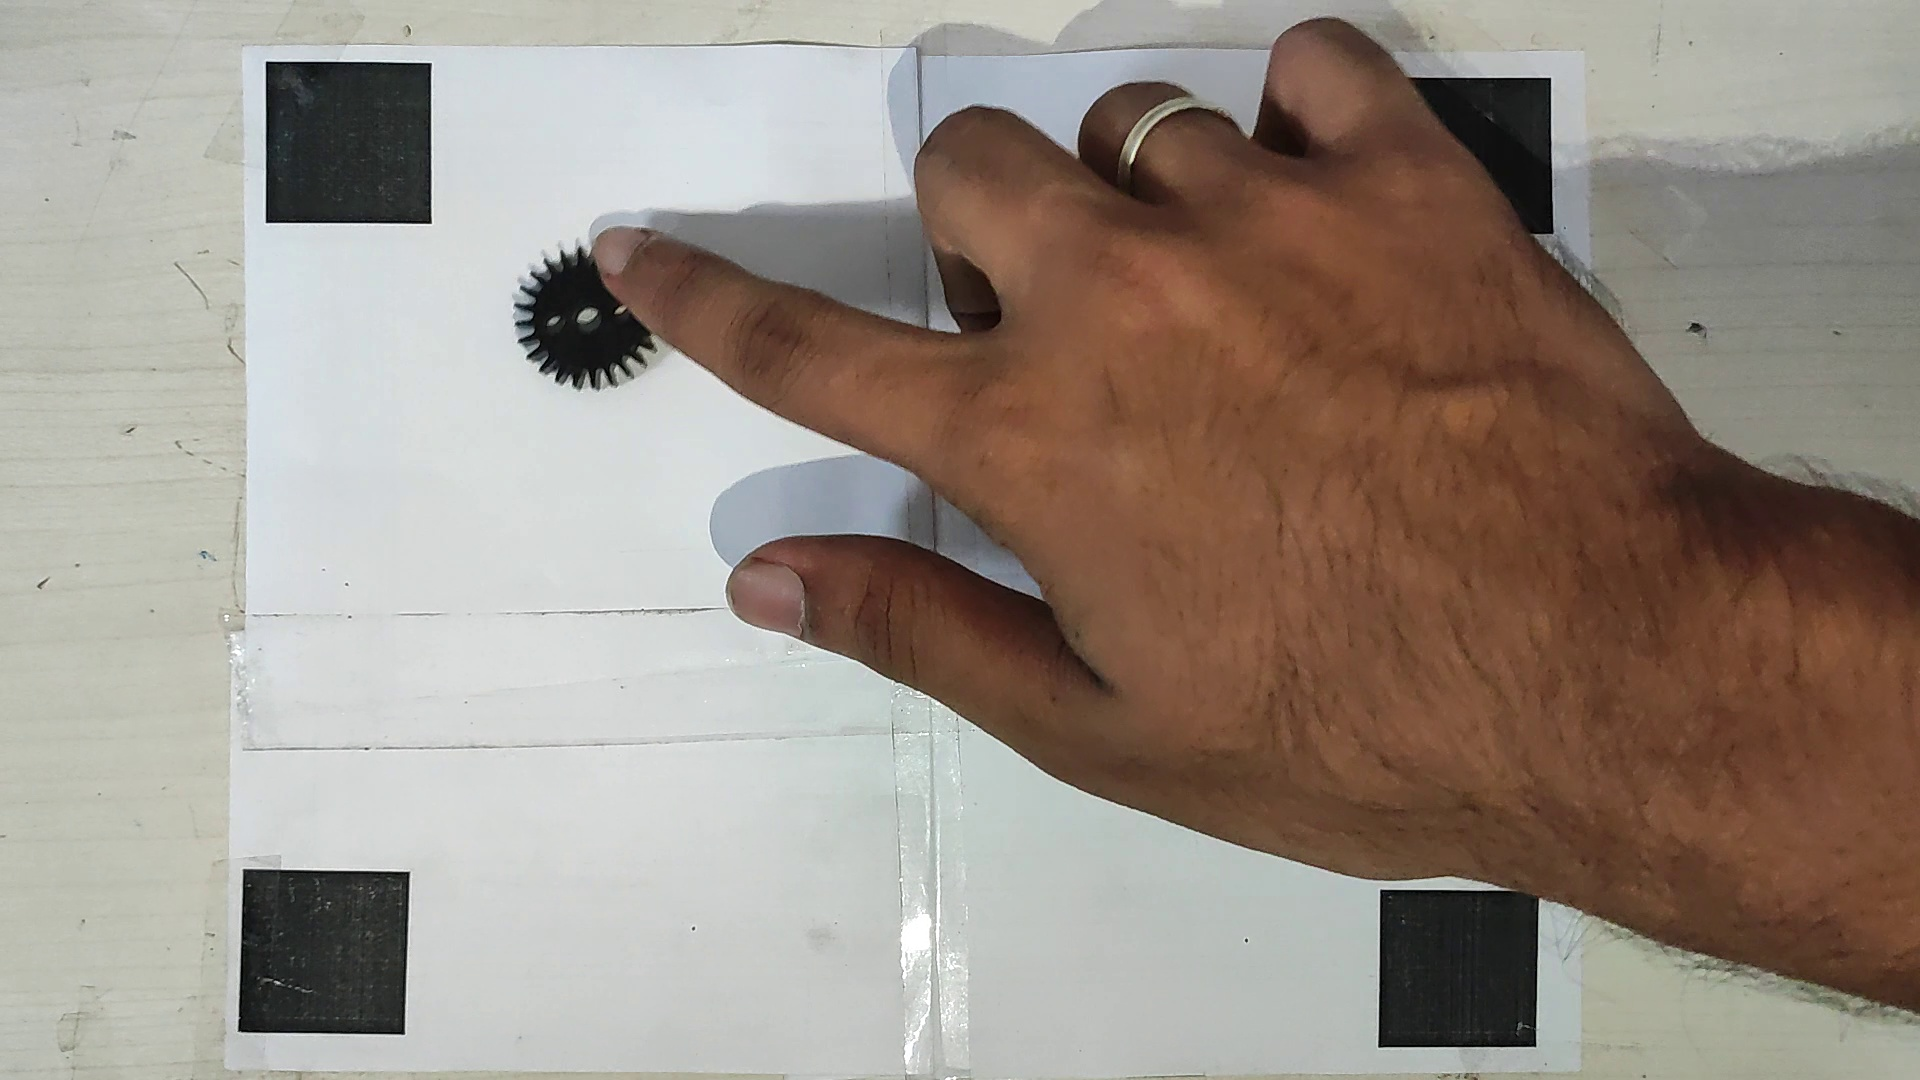Gear: (503, 237, 666, 397)
